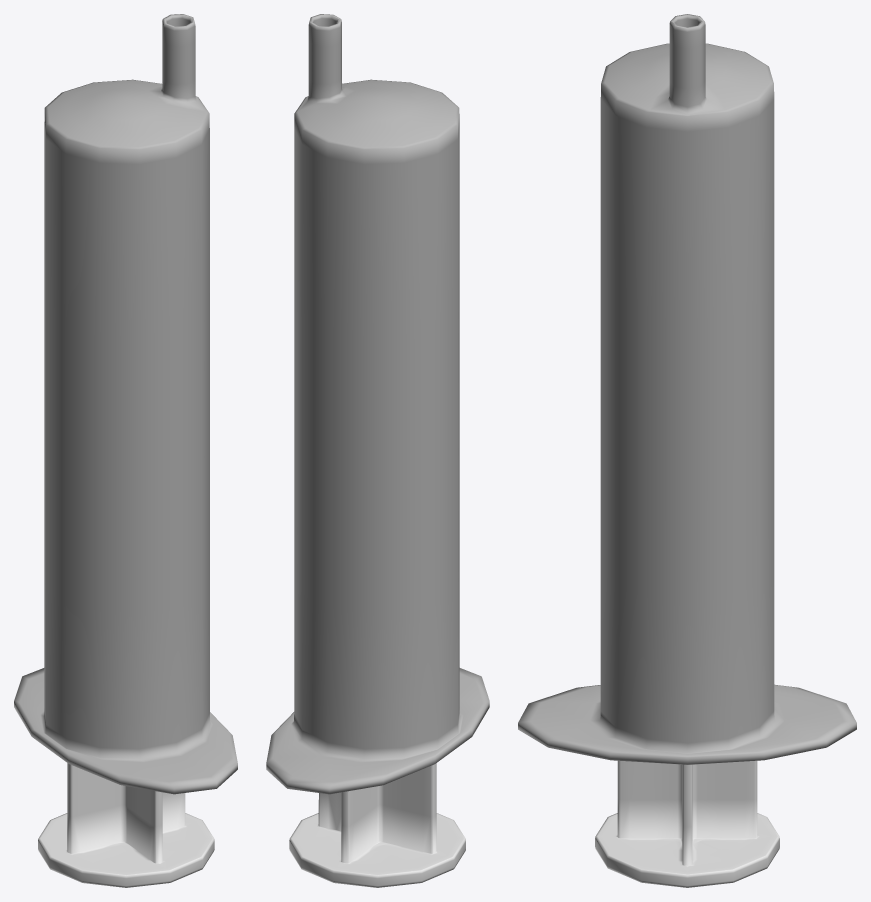
File: syringe.fbx
The picture shows the model from 3 angles, left to right: view 1: azimuth 30°, elevation 25°; view 2: azimuth 150°, elevation 25°; view 3: azimuth 270°, elevation 25°; orthographic projection. The views are drawn at different scales.
Visible parts, largest first — view 1: Outer_part, Inner_part; view 2: Outer_part, Inner_part; view 3: Outer_part, Inner_part.
Boxes of the visible parts, x1,y1,x2,y2 form: Outer_part: (14,14,237,794); Inner_part: (38,763,214,887); Outer_part: (266,14,489,794); Inner_part: (289,763,465,887); Outer_part: (518,14,856,764); Inner_part: (595,760,779,887).
Size of the model in its own units: 54.65 by 276 by 99.1.
Materials: 2 (1 with a texture image).
